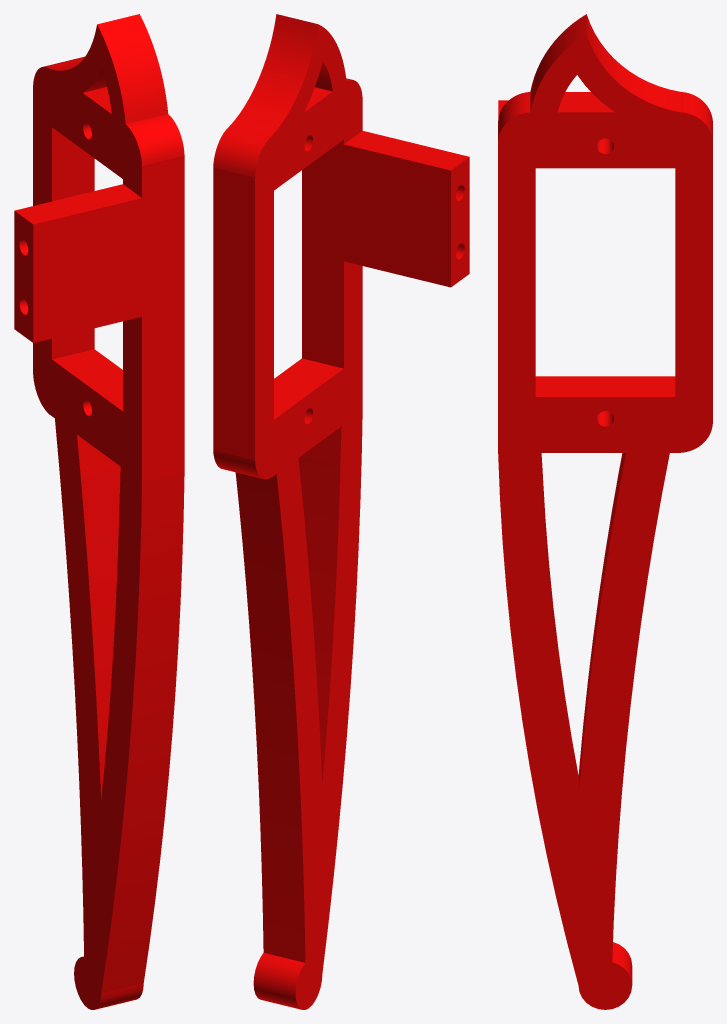
Rendered from tibia_front.dae.
3 renders of one model, left to right at view 1: azimuth 30°, elevation 25°; view 2: azimuth 150°, elevation 25°; view 3: azimuth 270°, elevation 25°, orthographic.
Parts seen in each view (by area): view 1: group_0 (×2), group_1, group_2; view 2: group_1, group_0 (×2), group_2; view 3: group_0 (×2), group_1, group_2.
Part boxes in pixels (box(x1,y1,x2,y2)): group_0 (×2): box(55, 408, 184, 1009); group_1: box(14, 56, 184, 481); group_2: box(49, 14, 168, 133); group_1: box(213, 78, 469, 479); group_0 (×2): box(235, 395, 362, 1009); group_2: box(229, 14, 346, 144); group_0 (×2): box(498, 433, 669, 1009); group_1: box(498, 92, 712, 452); group_2: box(530, 14, 680, 121).
Size of the model in its own units: 0.6299 by 0.7874 by 3.95.
